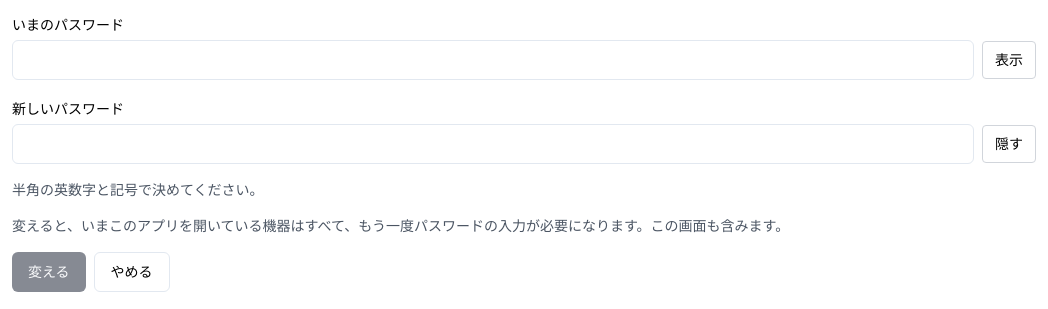
Scenario: PasswordChangeForm(変更) › 変更後に「自分も入り直す」ことを伝え、ログインへ戻す導線を出す
Type "old" into the password field with test id "auth-change-password-current-input" at [493, 60], box [12,40,974,80]
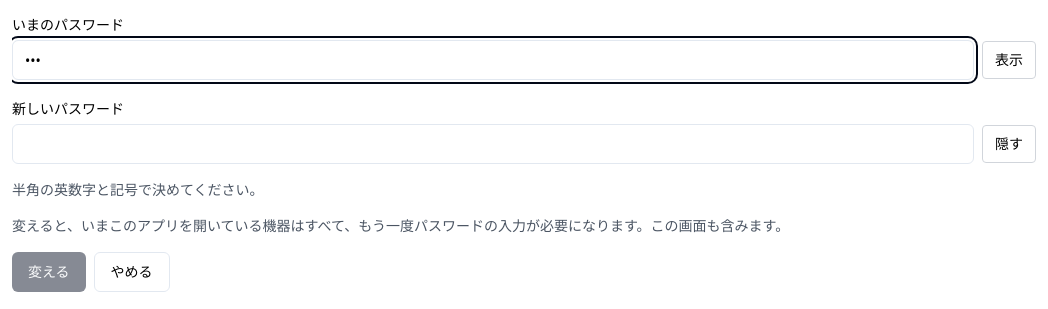
Type "new-password" into the field with test id "auth-change-password-new-input" at [493, 144], box [12,124,974,164]
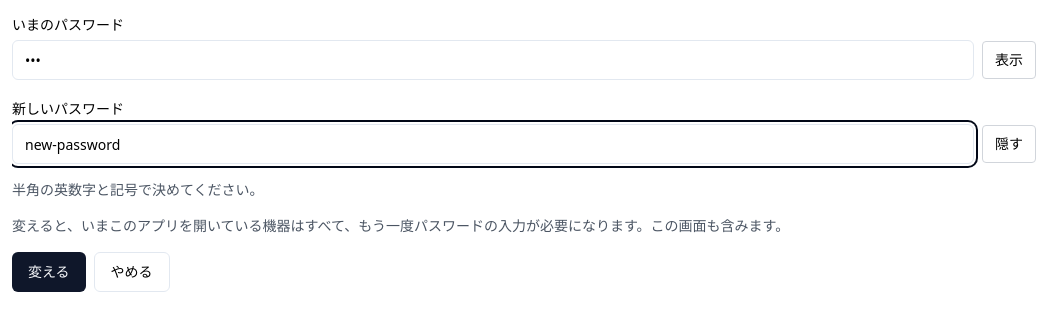
Click the button with test id "auth-change-password-submit" at [49, 272], box [12,252,86,292]
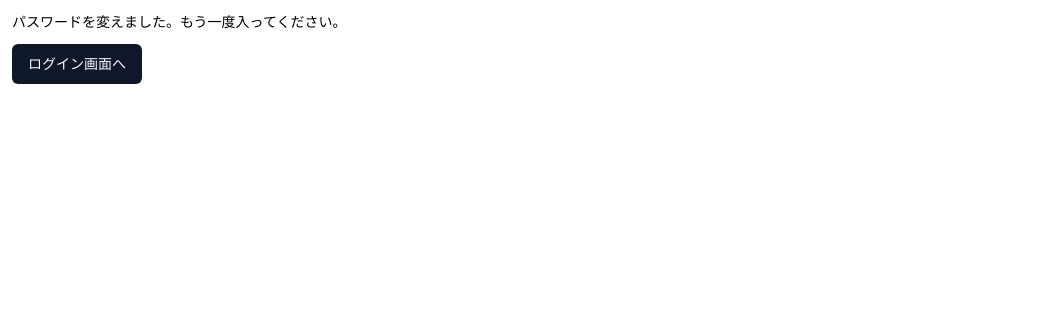
Check: the element with test id "auth-change-password-done" shows "もう一度入ってください", box [12,12,346,31]
Check: the button with test id "auth-change-password-done-action" is shown, box [12,44,142,84]
